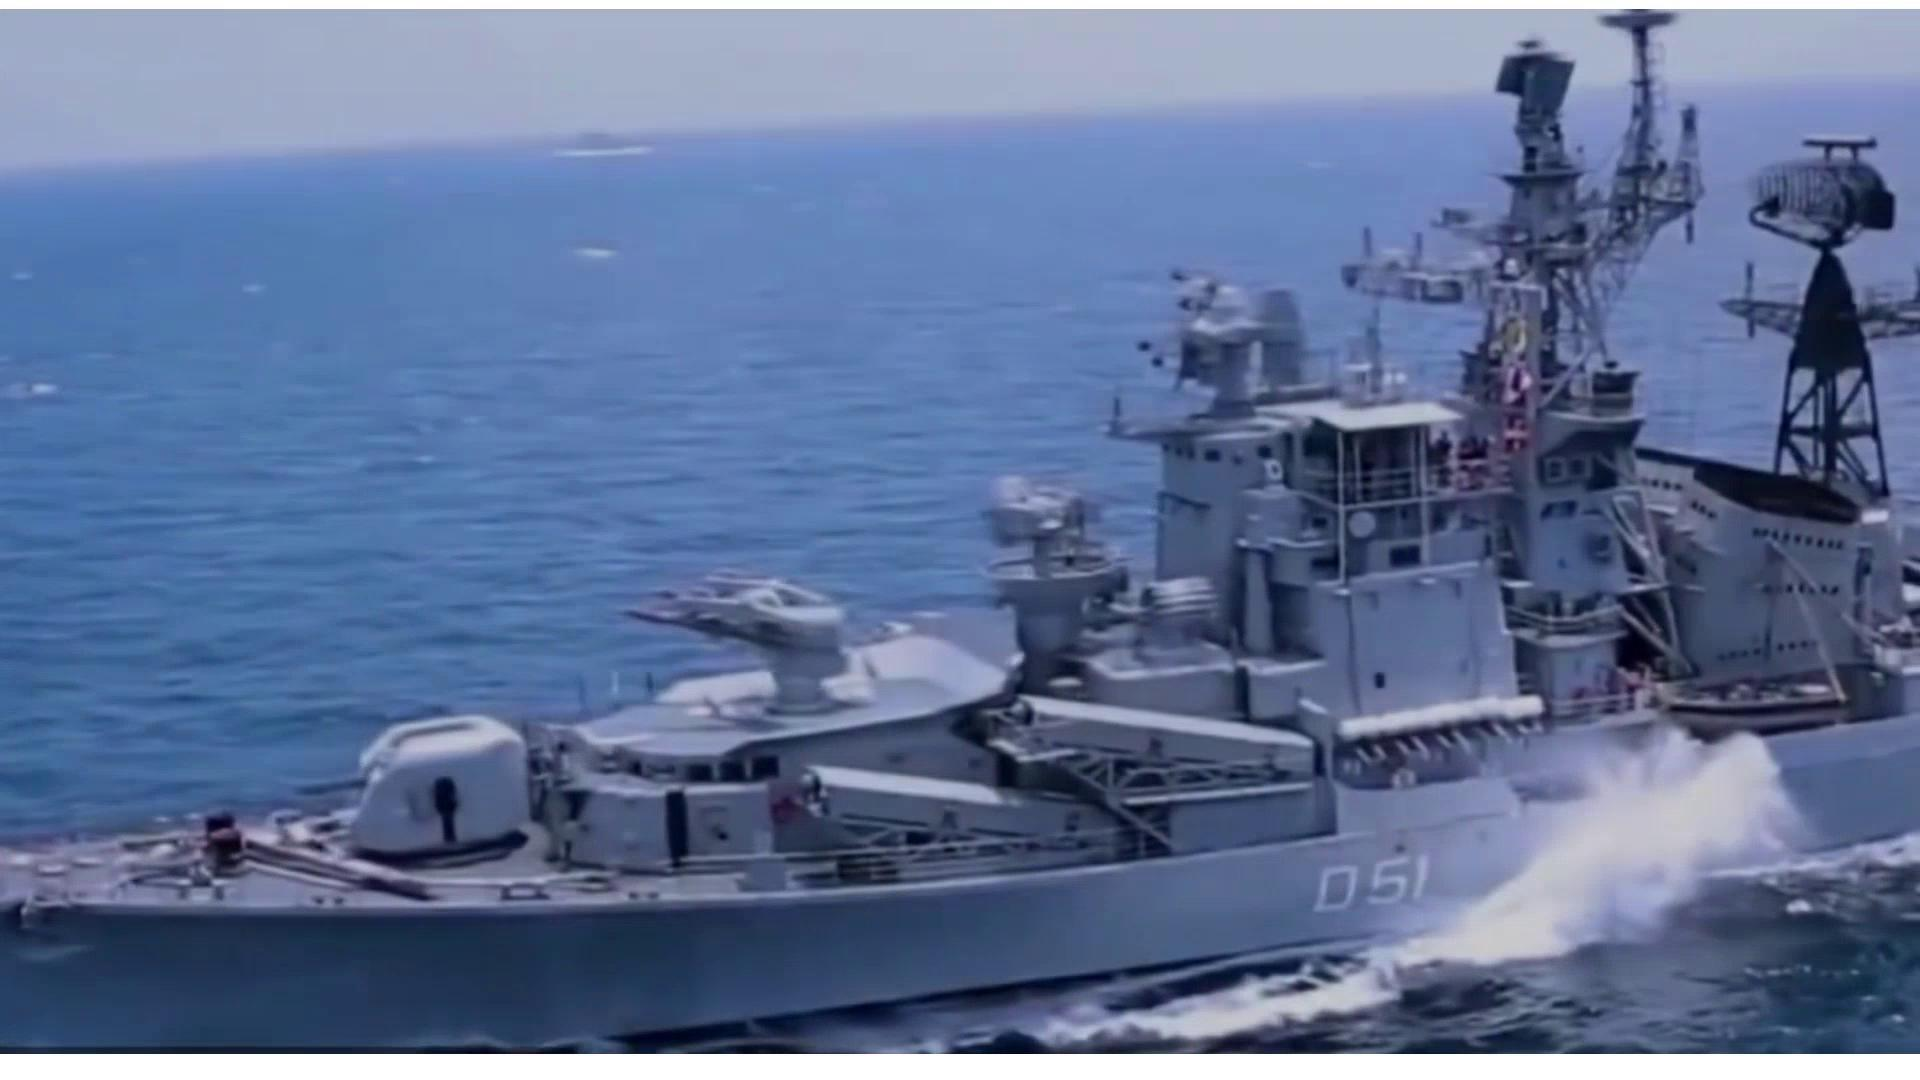OCR: (1304, 847, 1443, 931)
